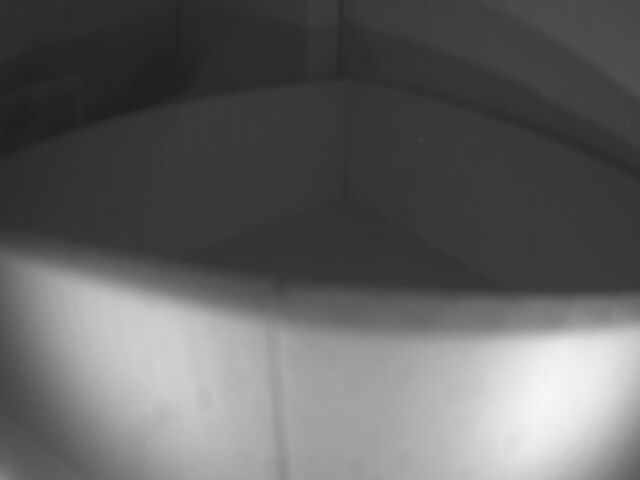Red: (2, 253, 639, 478)
